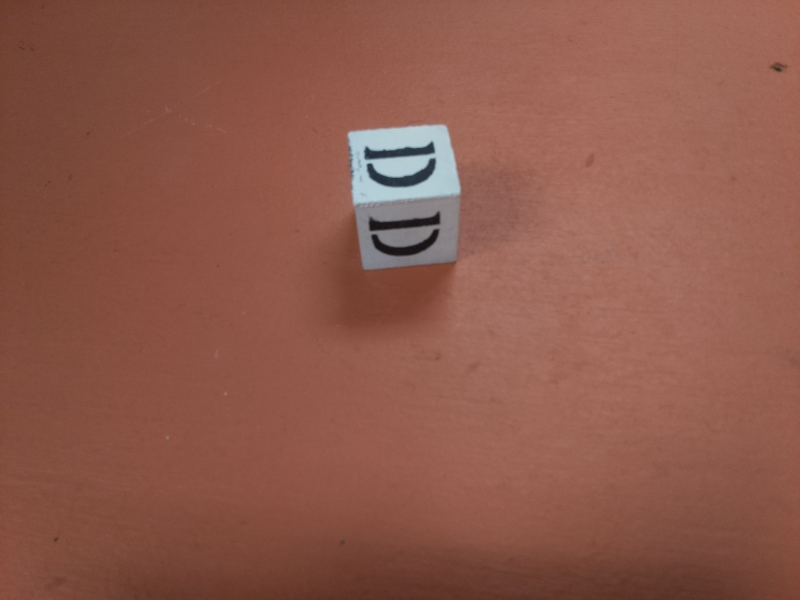blockD: (347, 126, 466, 268)
